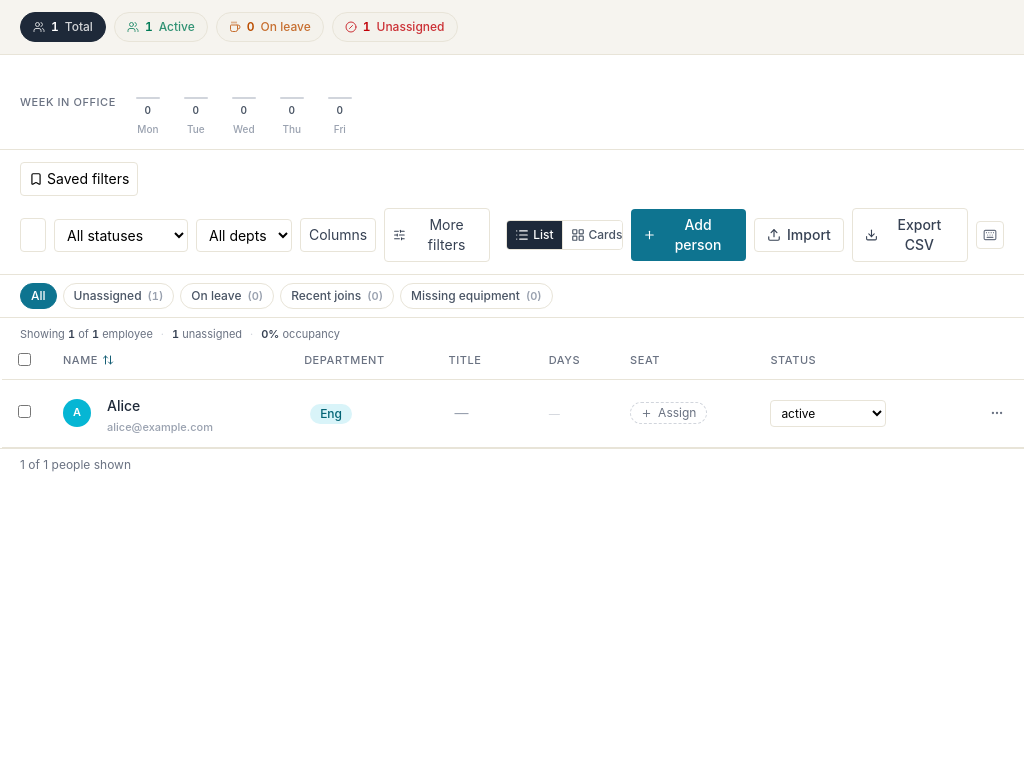
RosterDetailDrawer — Accommodations section › Add button is disabled until a type is selected
Double-click the text "Alice" at [512, 413], box [1,379,1023,448]
(page scrolled)
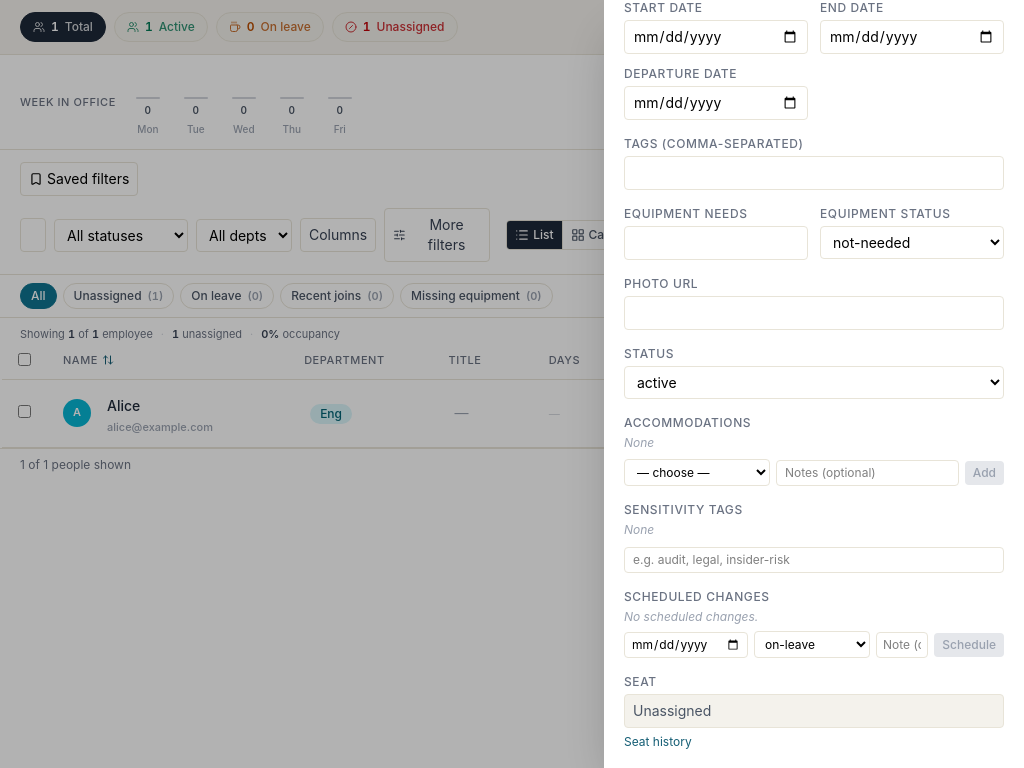
Expected: the button "Add" is disabled, [965,460,1004,484]
Select "Standing desk" in the dropdown named "Accommodation type" at [697, 472], box [624,459,770,486]
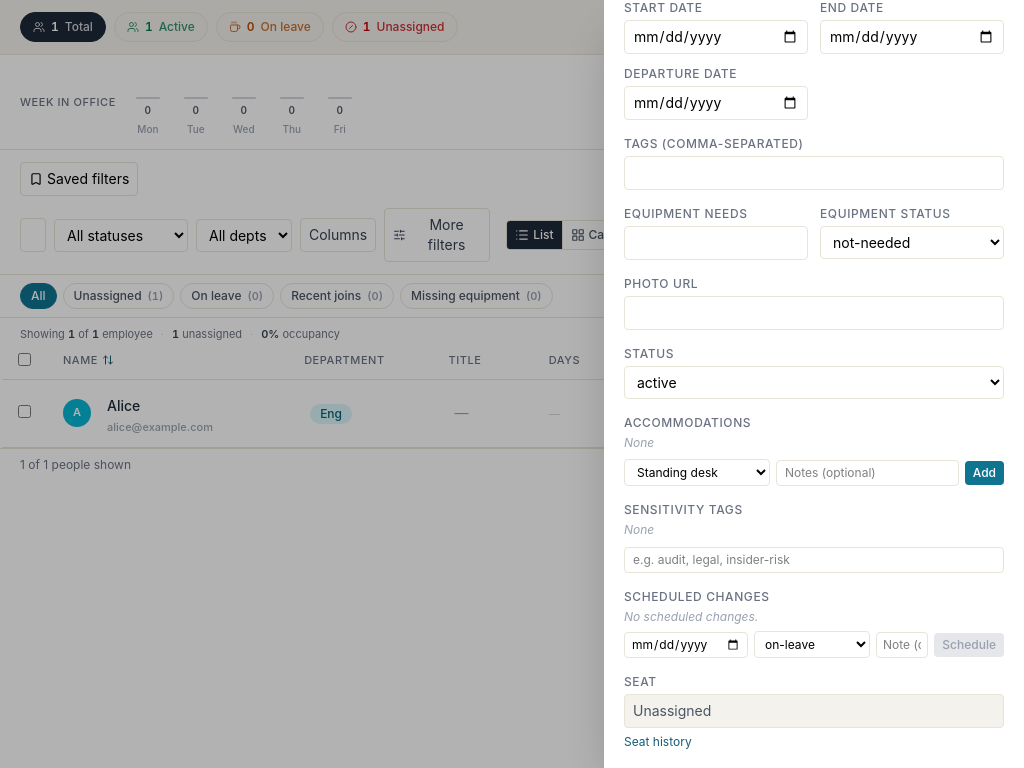
Expected: the button "Add" is enabled, [965,460,1004,484]
